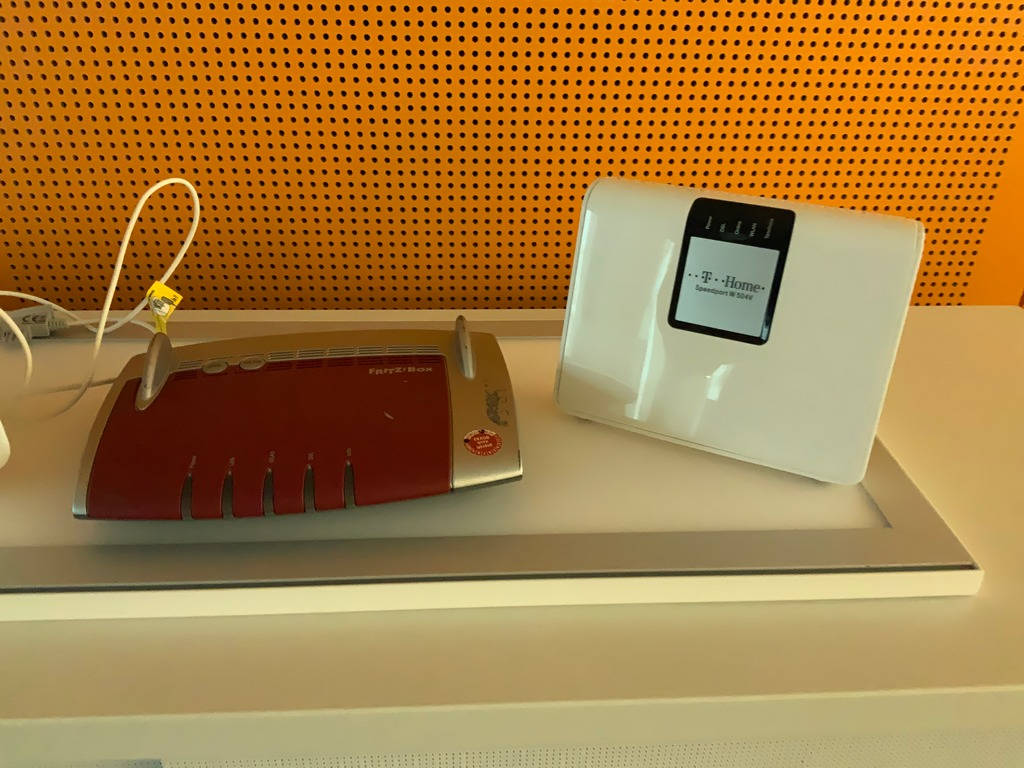Router2: (561, 173, 930, 489)
router3: (76, 319, 517, 533)
